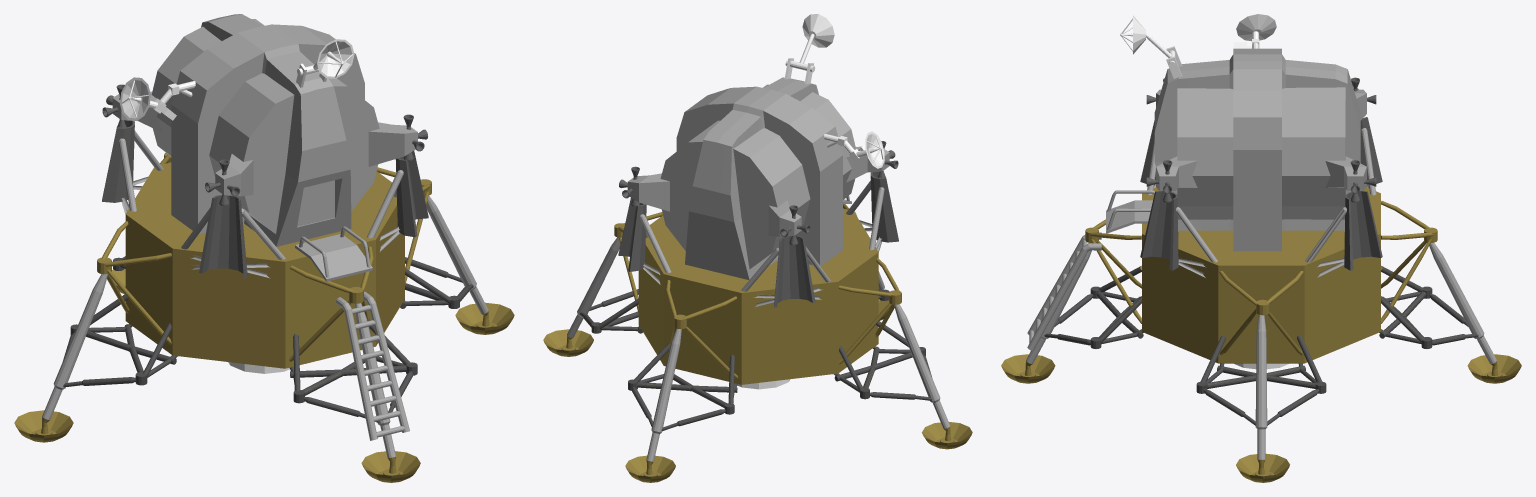
File: lunar.glb
3 views of the same model, side by side, from view 1: azimuth 30°, elevation 25°; view 2: azimuth 150°, elevation 25°; view 3: azimuth 270°, elevation 25° (orthographic). The views are drawn at different scales.
Parts seen in each view (by area): view 1: commando_Cylinder.018, LandingModul_Cube.001, setup_thruster_Cylinder.001, LandingGear_Foot_Sphere, LandingGear_Foot_Sphere.001, leiter_Cylinder.023, Antenna02_Cube.006, Antenna_Cylinder.026; view 2: commando_Cylinder.018, LandingModul_Cube.001, setup_thruster_Cylinder.001, LandingGear_Foot_Sphere, LandingGear_Foot_Sphere.001, Antenna_Cylinder.026, Antenna02_Cube.006; view 3: commando_Cylinder.018, LandingModul_Cube.001, LandingGear_Foot_Sphere.001, setup_thruster_Cylinder.001, LandingGear_Foot_Sphere, leiter_Cylinder.023, Antenna02_Cube.006, Antenna_Cylinder.026.
Part boxes in pixels (<box>): commando_Cylinder.018: <box>151,14,379,246</box>; LandingModul_Cube.001: <box>125,162,404,368</box>; setup_thruster_Cylinder.001: <box>102,84,428,278</box>; LandingGear_Foot_Sphere: <box>14,167,514,442</box>; LandingGear_Foot_Sphere.001: <box>111,153,420,482</box>; leiter_Cylinder.023: <box>295,226,409,440</box>; Antenna02_Cube.006: <box>120,77,195,120</box>; Antenna_Cylinder.026: <box>296,39,354,87</box>; commando_Cylinder.018: <box>660,77,855,279</box>; LandingModul_Cube.001: <box>638,208,878,384</box>; setup_thruster_Cylinder.001: <box>618,141,898,307</box>; LandingGear_Foot_Sphere: <box>543,212,972,449</box>; LandingGear_Foot_Sphere.001: <box>625,204,889,482</box>; Antenna_Cylinder.026: <box>784,14,834,84</box>; Antenna02_Cube.006: <box>824,131,884,168</box>; commando_Cylinder.018: <box>1154,48,1360,251</box>; LandingModul_Cube.001: <box>1142,187,1380,363</box>; LandingGear_Foot_Sphere.001: <box>1001,201,1521,383</box>; setup_thruster_Cylinder.001: <box>1140,77,1382,277</box>; LandingGear_Foot_Sphere: <box>1196,271,1326,482</box>; leiter_Cylinder.023: <box>1027,190,1154,351</box>; Antenna02_Cube.006: <box>1233,14,1276,48</box>; Antenna_Cylinder.026: <box>1120,15,1182,78</box>.
Size of the model in its own units: 4.36 by 3.36 by 4.36.
Materials: 8 (6 with a texture image).
